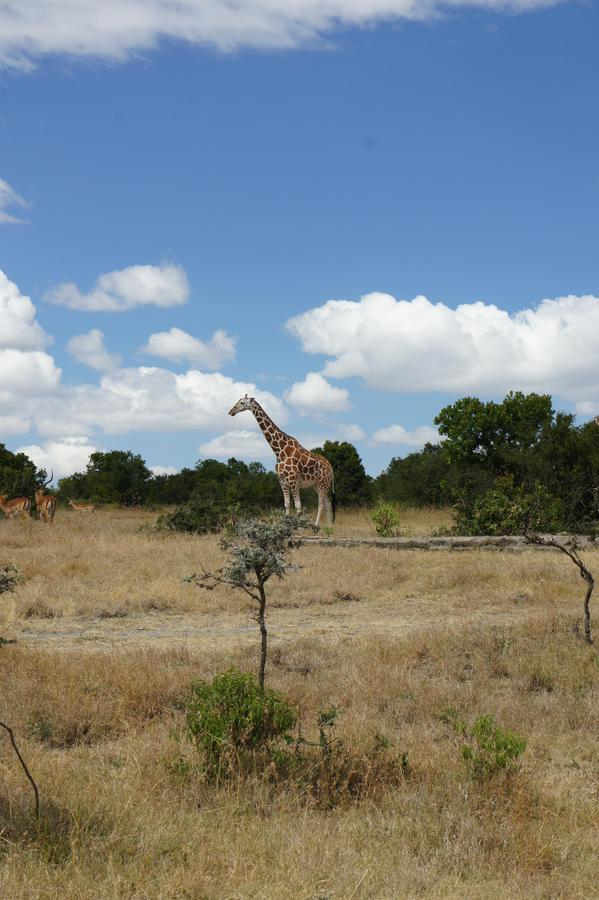giraffe: (228, 395, 341, 516)
